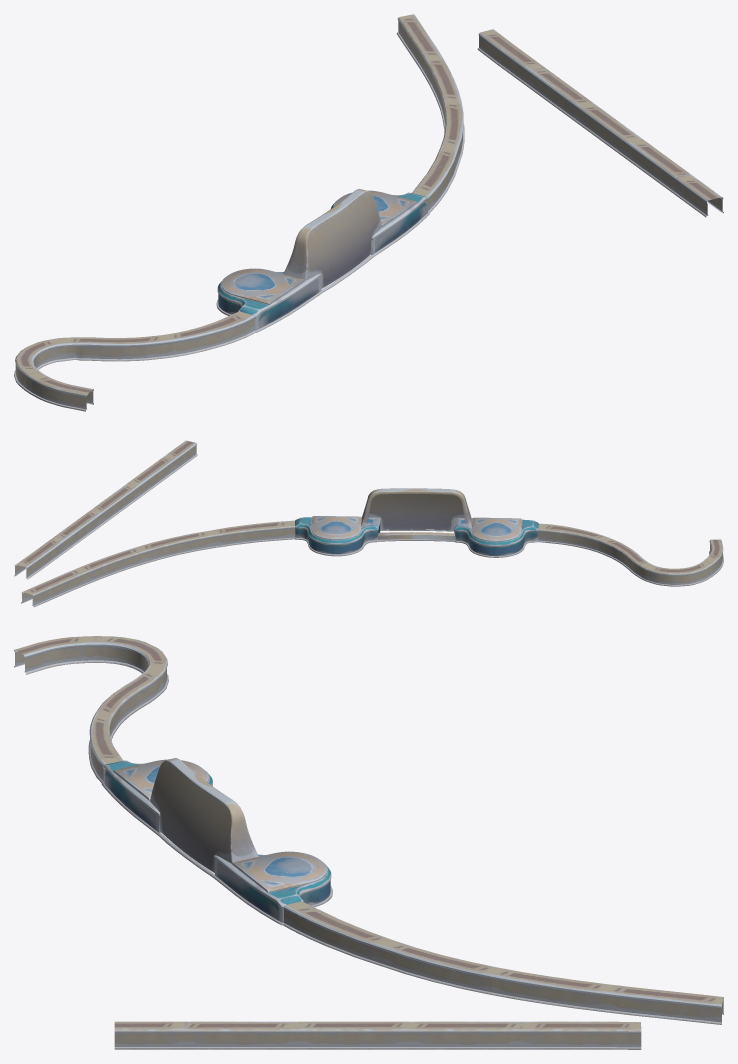
Rendered from pref_sm_beach_winter_techfield_lv3.fbx.
The picture shows the model from 3 angles, top to bottom: view 1: azimuth 30°, elevation 25°; view 2: azimuth 150°, elevation 25°; view 3: azimuth 270°, elevation 25°; orthographic projection. The views are drawn at different scales.
Visible parts, largest first — view 1: sm_beach_winter_techfield_b_lv3; view 2: sm_beach_winter_techfield_b_lv3; view 3: sm_beach_winter_techfield_b_lv3.
Boxes of the visible parts, x1,y1,x2,y2 form: sm_beach_winter_techfield_b_lv3: [14, 14, 723, 411]; sm_beach_winter_techfield_b_lv3: [14, 440, 723, 607]; sm_beach_winter_techfield_b_lv3: [14, 636, 723, 1049].
Size of the model in its own units: 52.84 by 4.47 by 40.05.
